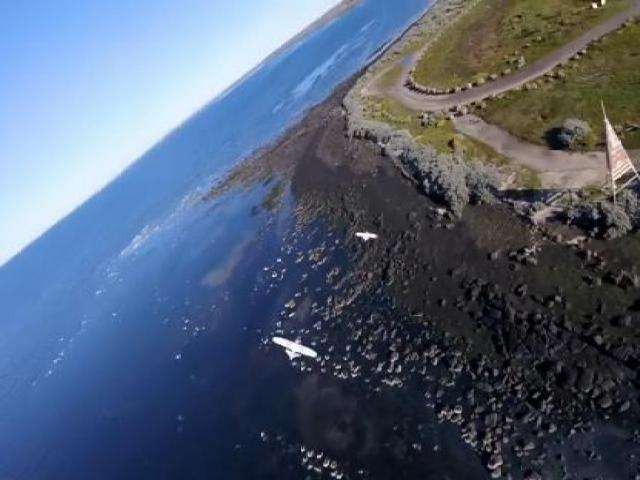uav: (272, 332, 316, 362), (353, 227, 376, 244)
